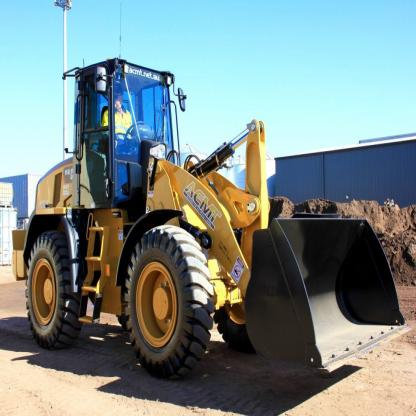bull_dozer/loader/grader: (12, 38, 408, 381)
